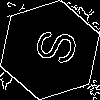S: (25, 25, 79, 67)
